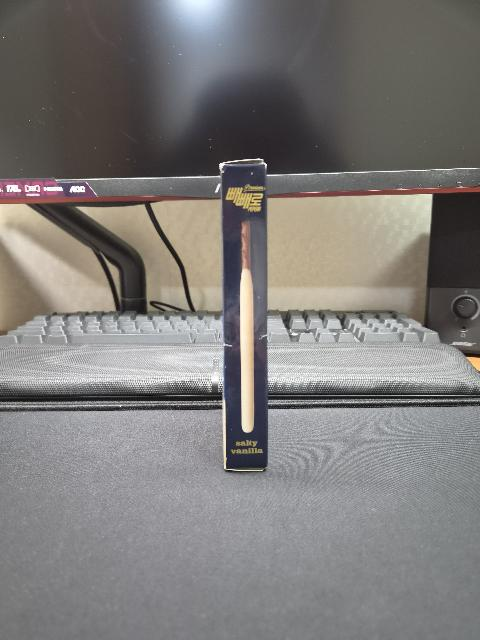pepero: (219, 158, 268, 472)
